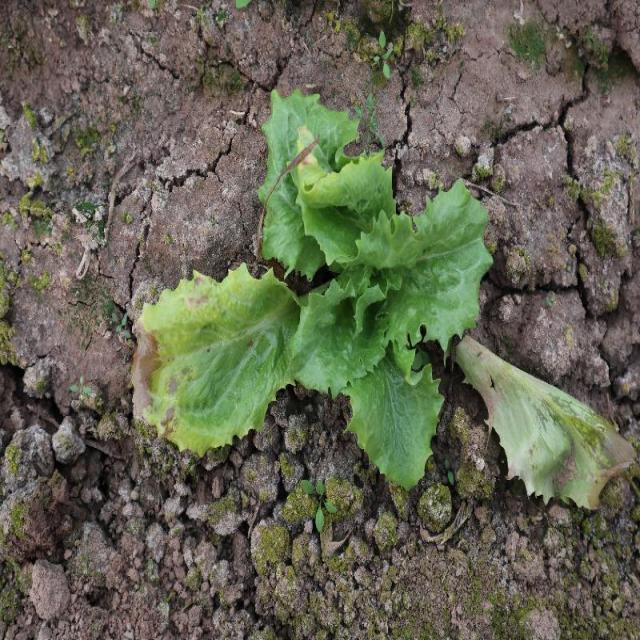crop: (264, 95, 487, 489)
